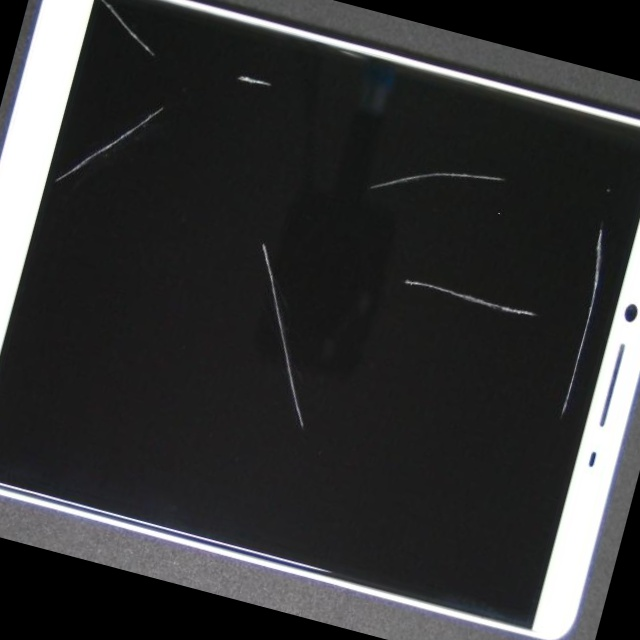scratch: (166, 54, 573, 313)
